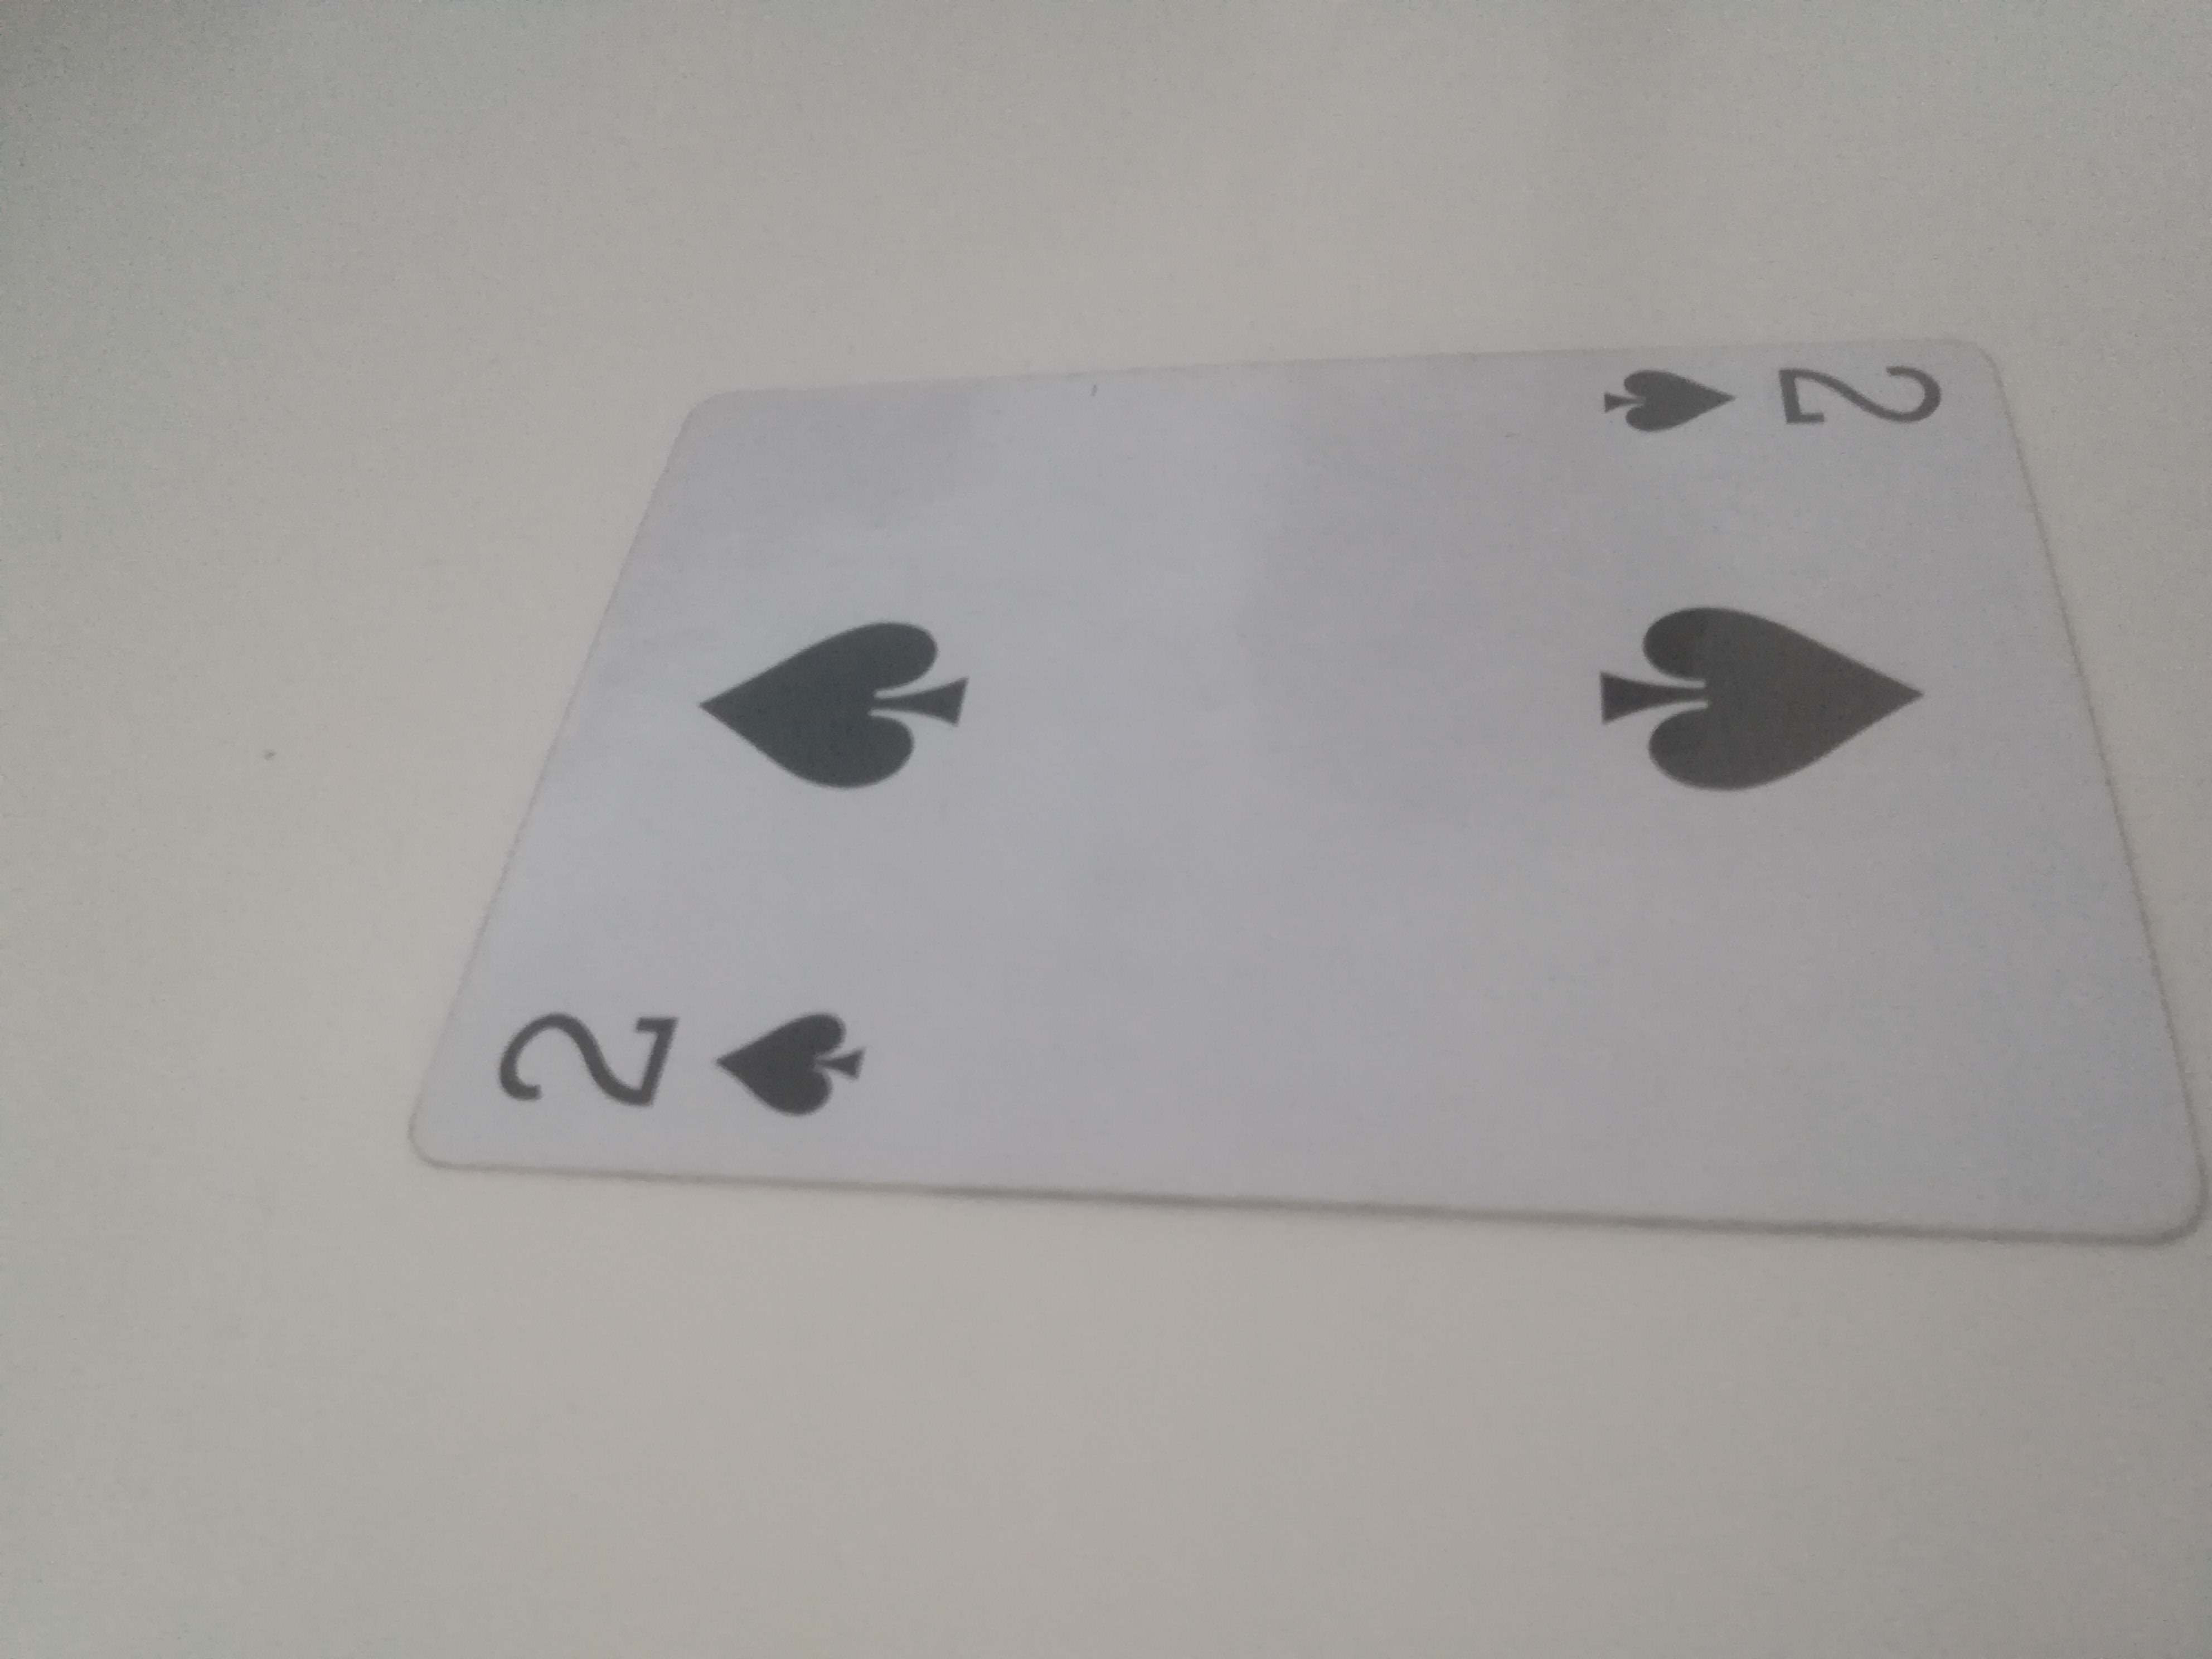2S: (408, 350, 2205, 1256)
